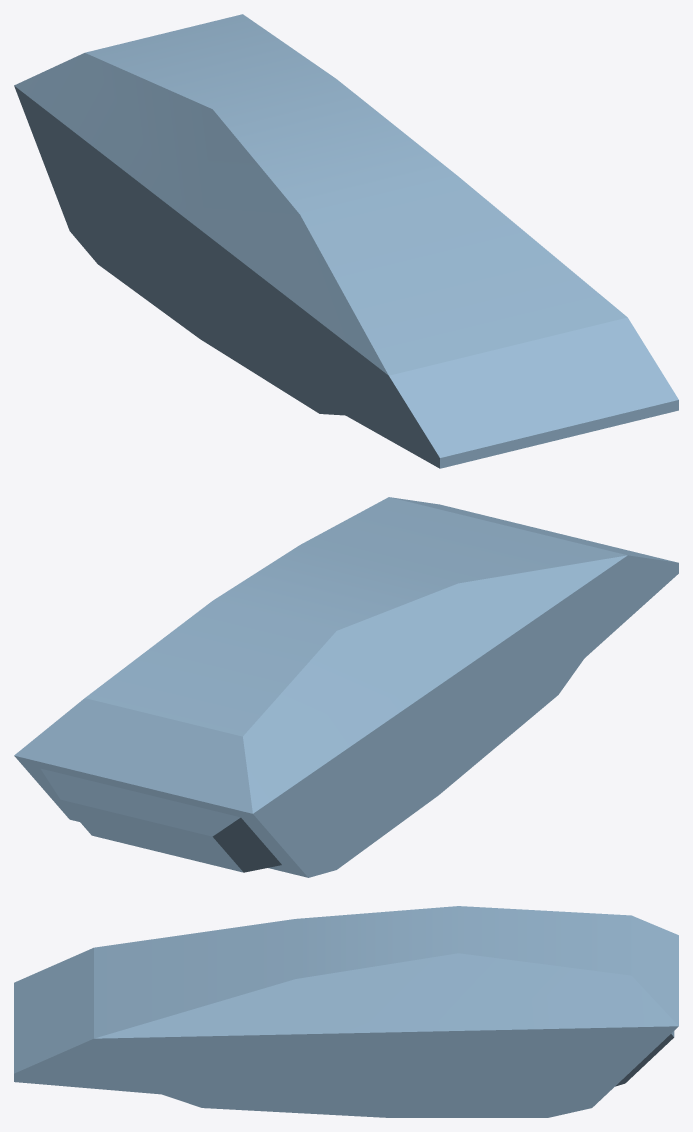
Rendered from probe.FBX.
3 renders of one model, top to bottom at view 1: azimuth 30°, elevation 25°; view 2: azimuth 150°, elevation 25°; view 3: azimuth 270°, elevation 25°, orthographic. The views are drawn at different scales.
Visible parts, largest first — view 1: Object16; view 2: Object16; view 3: Object16.
Part boxes in pixels (x1=…): Object16: x1=14, y1=14, x2=678, y2=468; Object16: x1=14, y1=497, x2=678, y2=877; Object16: x1=14, y1=906, x2=678, y2=1117.
Bounding box in the file's own units: 0.0282 × 0.0872 × 0.0207.
